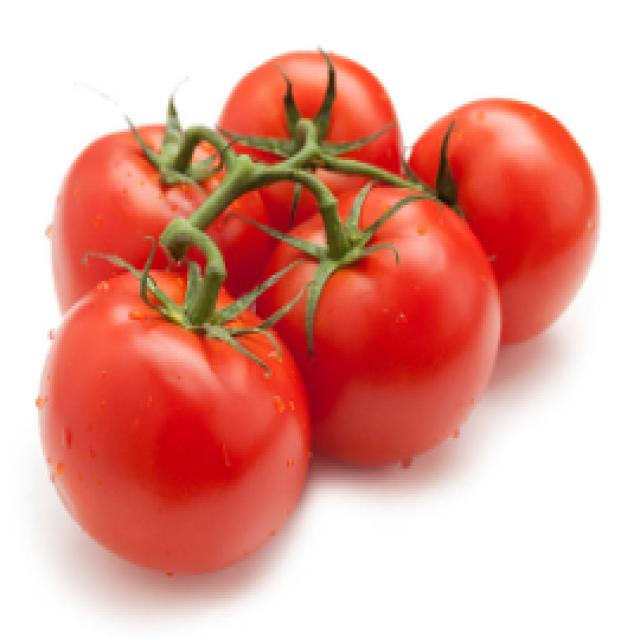Tomato: (44, 260, 308, 604), (274, 140, 511, 458), (53, 91, 297, 327), (214, 49, 418, 211)
